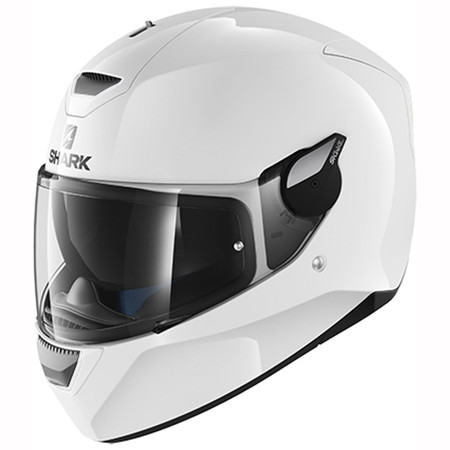with_helmet: (31, 3, 422, 445)
